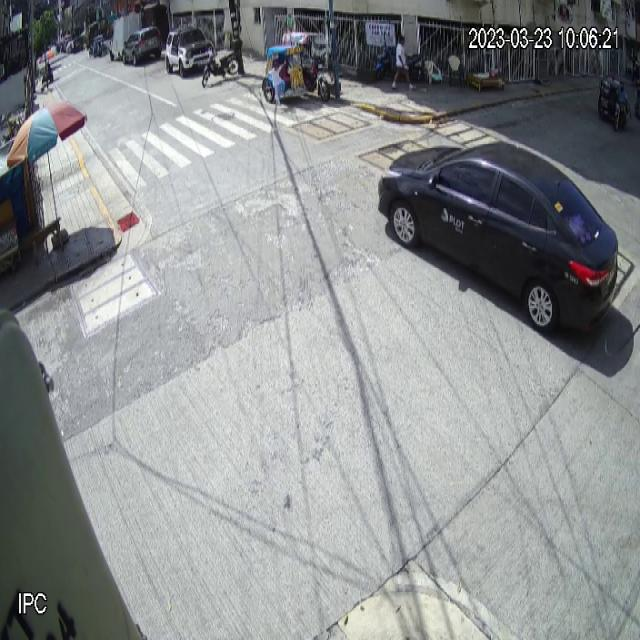Car: (378, 140, 618, 344)
